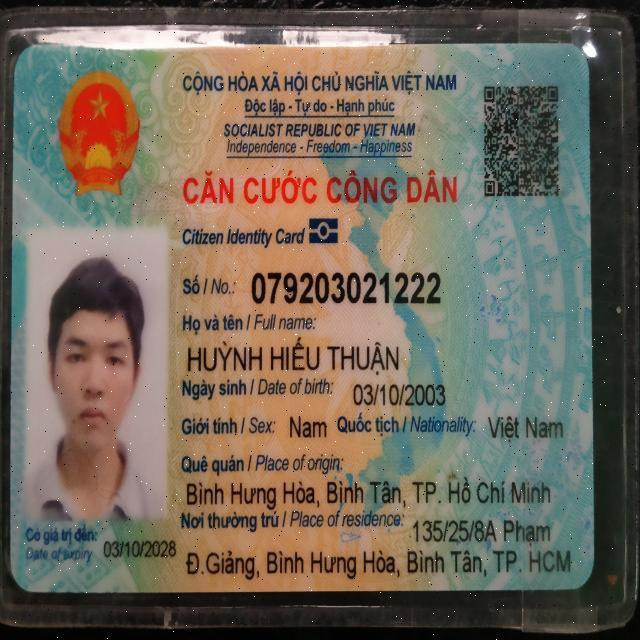current_place: (183, 546, 573, 584), (411, 517, 552, 548)
dob: (352, 382, 447, 408)
expire_date: (102, 536, 179, 562)
gender: (288, 412, 328, 441)
id: (250, 267, 443, 310)
name: (186, 335, 400, 377)
nationality: (487, 415, 565, 444)
origin_place: (183, 474, 552, 512)
